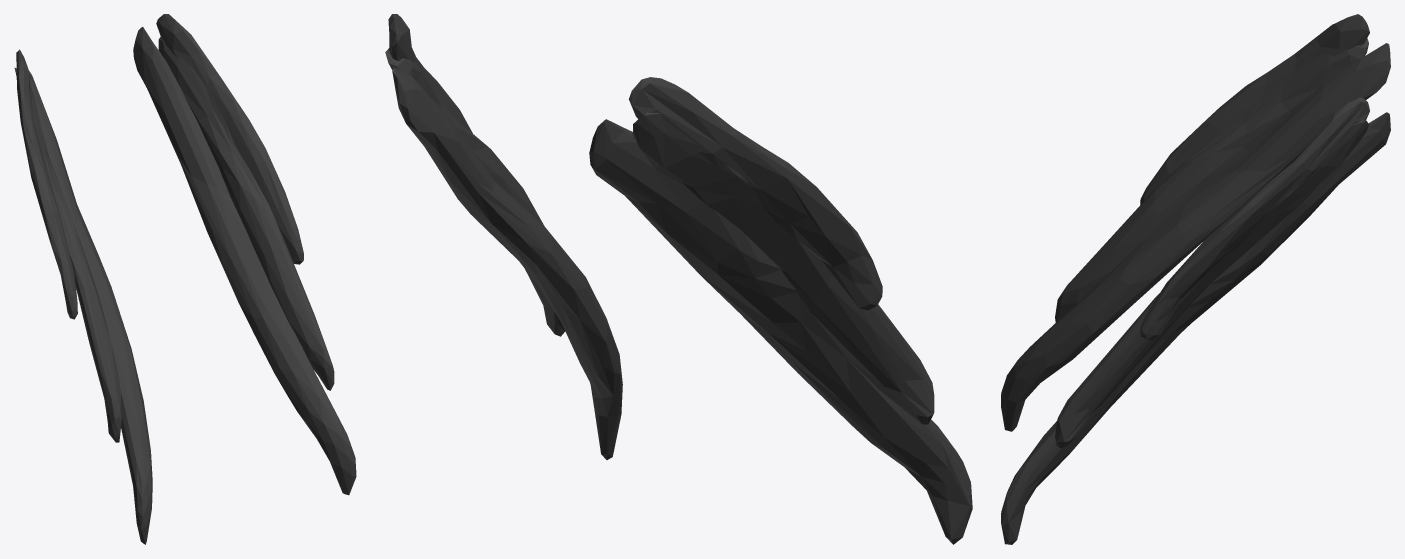
Rendered from m_intertransversarii_ventrales_cervicis.glb.
3 views of the same model, side by side, from view 1: azimuth 30°, elevation 25°; view 2: azimuth 150°, elevation 25°; view 3: azimuth 270°, elevation 25° (orthographic). The views are drawn at different scales.
Visible parts, largest first — view 1: m_intertransversarii_ventrales_cervicis; view 2: m_intertransversarii_ventrales_cervicis; view 3: m_intertransversarii_ventrales_cervicis.
Boxes of the visible parts, box(x1,y1,x2,y2) form: m_intertransversarii_ventrales_cervicis: box(14, 14, 356, 544); m_intertransversarii_ventrales_cervicis: box(385, 14, 972, 544); m_intertransversarii_ventrales_cervicis: box(1001, 14, 1390, 544).
Size of the model in its own units: 0.00123 by 0.00189 by 0.00154.
Materials: 1 (1 with a texture image).
